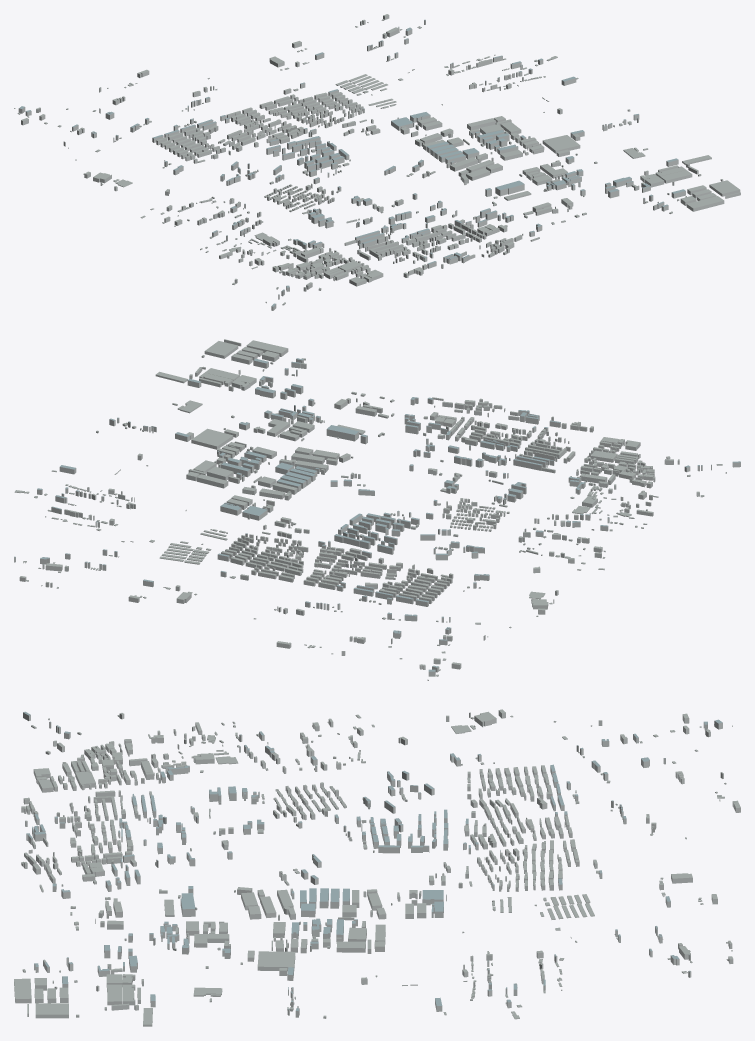
Rendered from far.glb.
3 renders of one model, top to bottom at view 1: azimuth 30°, elevation 25°; view 2: azimuth 150°, elevation 25°; view 3: azimuth 270°, elevation 25°, orthographic. The views are drawn at different scales.
Size of the model in its own units: 2163 by 27.6 by 2130.
